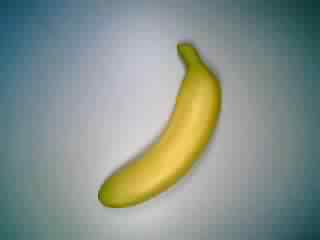banana: (95, 36, 231, 208)
